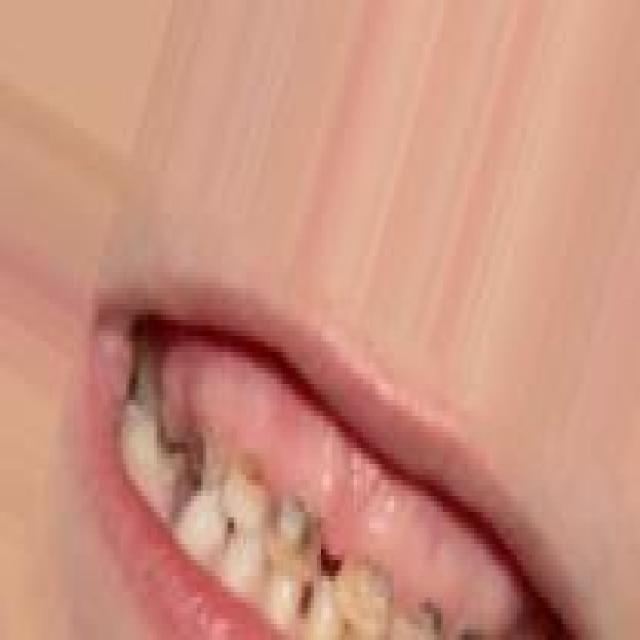caries: (263, 481, 323, 588), (336, 544, 401, 640), (184, 419, 229, 503), (226, 449, 269, 532)
